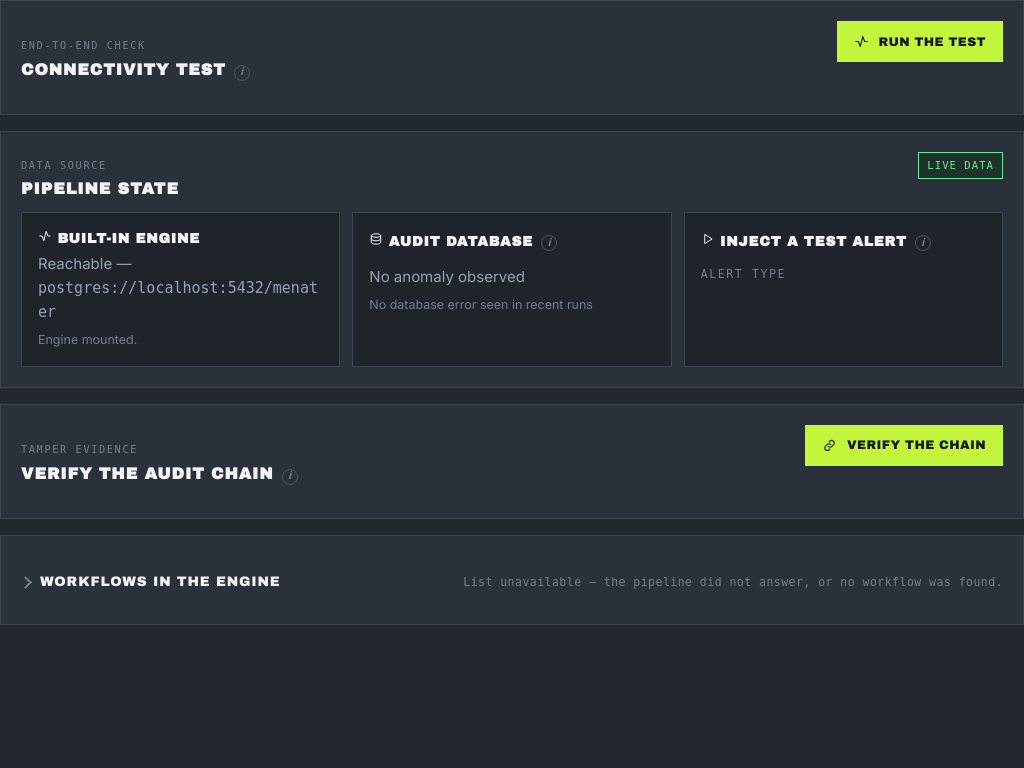
the tone follows the outcome, and green is reachable from one of them › a mismatch is red, and names the rows
This screenshot has width=1024, height=768.
Click the button "Verify the chain".
click(904, 446)  # box [805,425,1003,466]
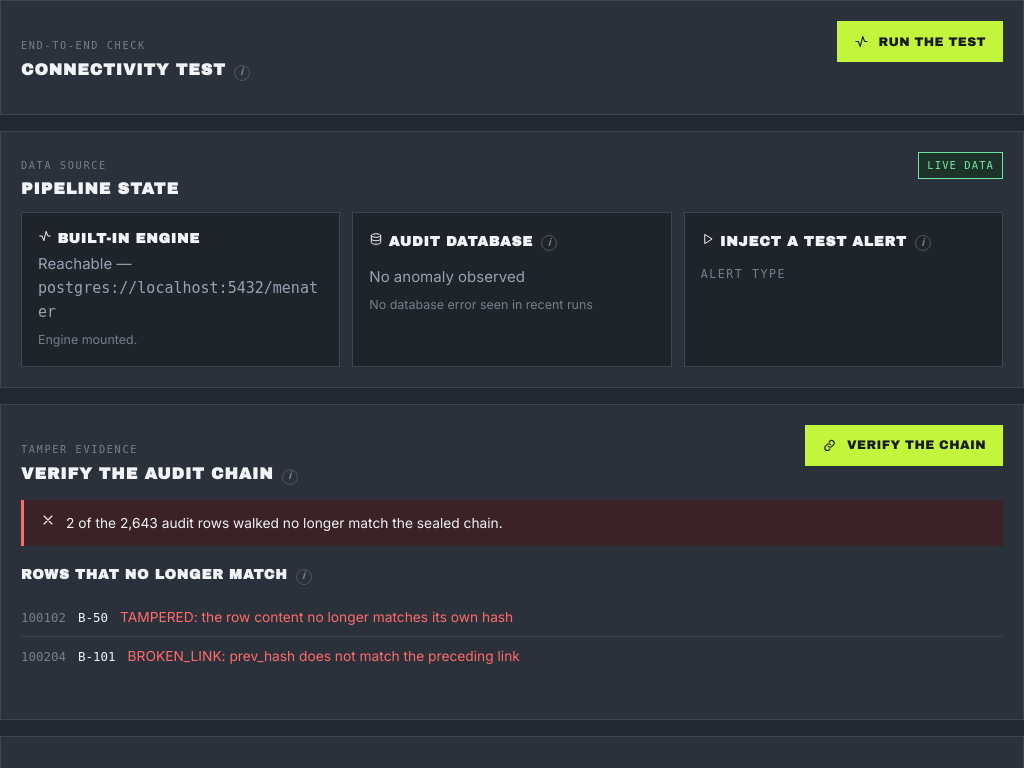
Expected: the text "100102" is shown, [21,608,66,628]
Expected: the text "B-101" is shown, [78,647,116,667]
Expected: the text "TAMPERED: the row content no longer matches its own hash" is shown, [120,609,513,625]
